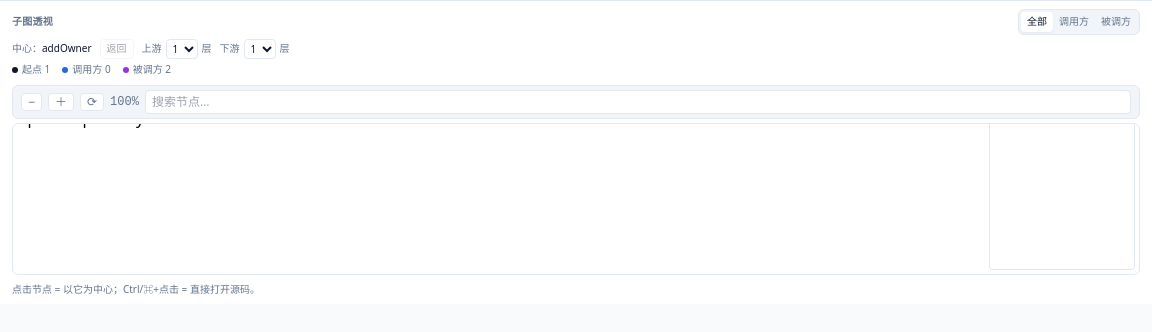
Test: SubgraphPanel (v0.6 closeout) › shows a per-side empty hint when the filtered direction has no nodes
The image size is (1152, 332).
Click the button with test id "subgraph-view-caller". click: click(1074, 22)
box: [1053,12,1095,32]
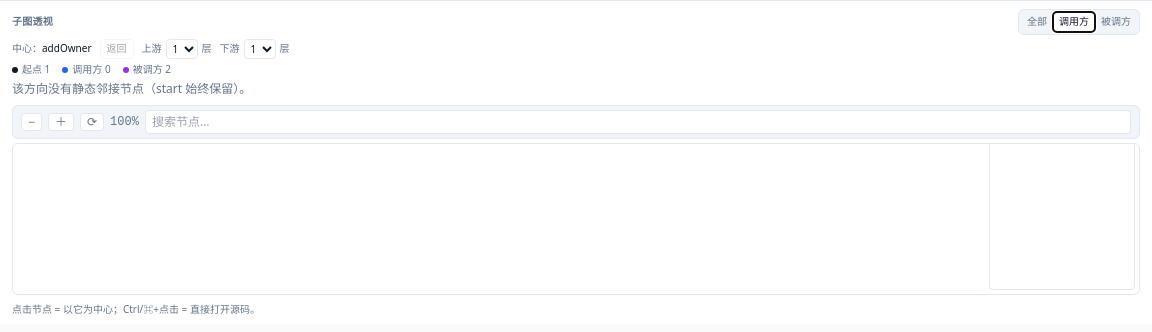
expect the text "该方向没有静态邻接节点（start 始终保留）。" is shown: met, box [12,80,251,96]
